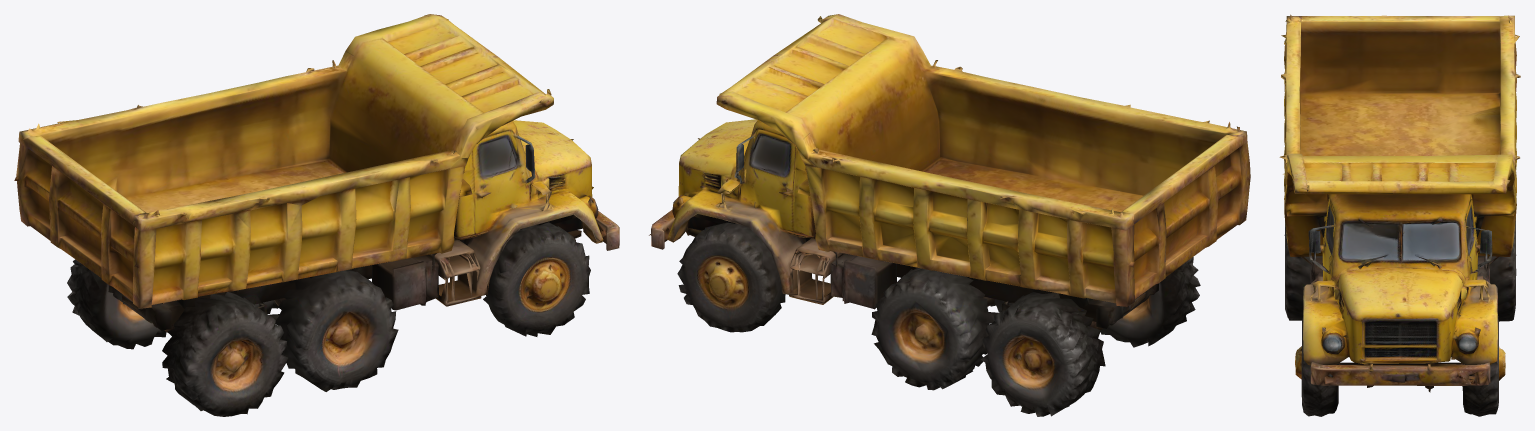
The model's file is qr_dumptruck2.glb.
The picture shows the model from 3 angles, left to right: view 1: azimuth 30°, elevation 25°; view 2: azimuth 150°, elevation 25°; view 3: azimuth 270°, elevation 25°; orthographic projection. The views are drawn at different scales.
Visible parts, largest first — view 1: tripo_node_93c6b2e2-2765-4a5e-81e1-601eb0e5da8b; view 2: tripo_node_93c6b2e2-2765-4a5e-81e1-601eb0e5da8b; view 3: tripo_node_93c6b2e2-2765-4a5e-81e1-601eb0e5da8b.
Boxes of the visible parts, box(x1,y1,x2,y2) form: tripo_node_93c6b2e2-2765-4a5e-81e1-601eb0e5da8b: box(14, 14, 619, 416); tripo_node_93c6b2e2-2765-4a5e-81e1-601eb0e5da8b: box(649, 14, 1250, 416); tripo_node_93c6b2e2-2765-4a5e-81e1-601eb0e5da8b: box(1279, 14, 1520, 416).
Bounding box in the file's own units: 0.9862 × 0.4561 × 0.4366.
1 material, 1 textured.
